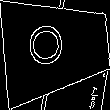O_E: (35, 24, 78, 72)
